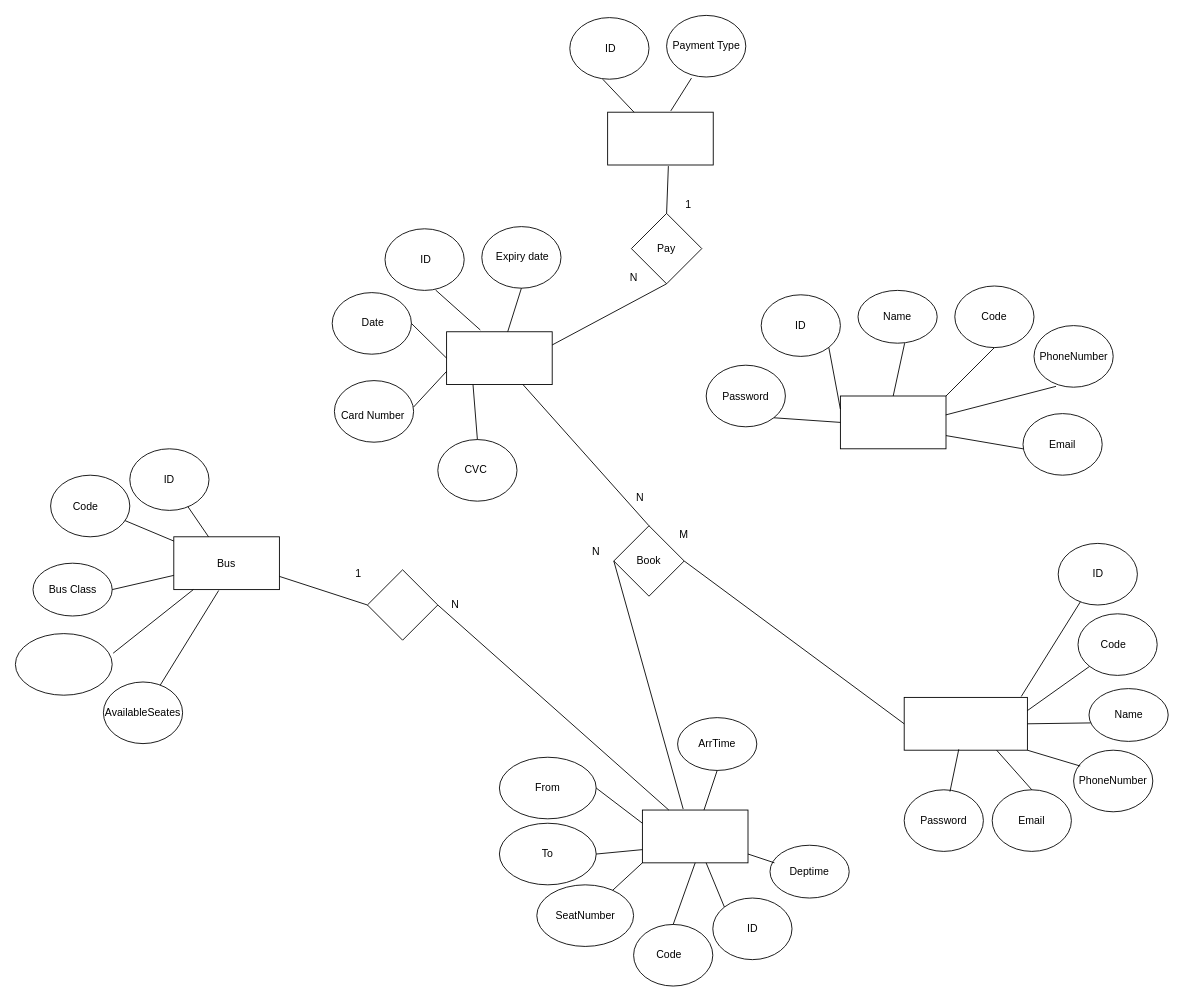
Image size: 1184x1001. Some labels were removed from this diagram. Each missing label, with the box of its shape:
Admin: (840, 395, 946, 449)
BookedSeates: (15, 633, 112, 695)
CreditCard: (446, 331, 552, 385)
Make: (367, 569, 438, 640)
Passenger: (903, 697, 1027, 750)
Payment: (607, 111, 713, 165)
Trip: (642, 809, 748, 863)
